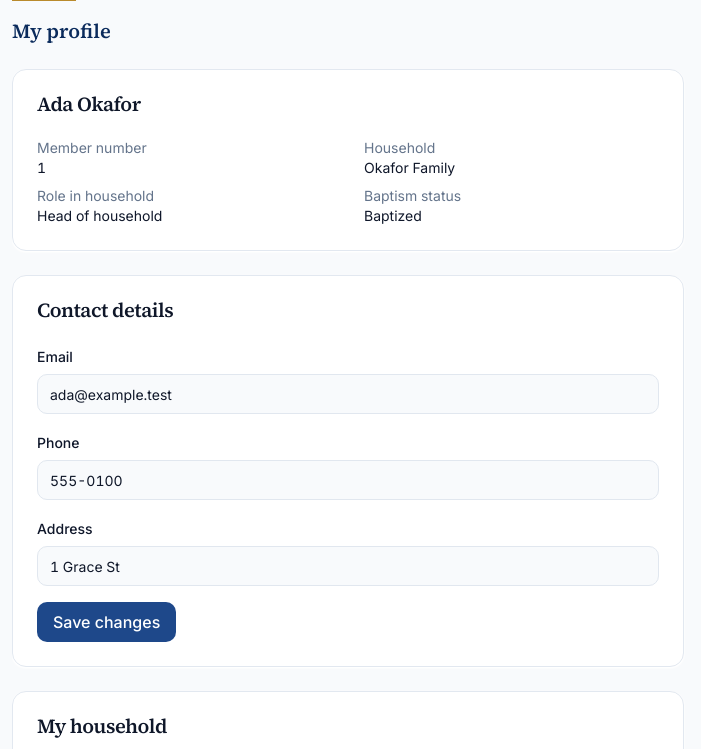
Test: MemberProfilePage (story 3.2) › saves edited contact info via the data layer
Expected: the text "Okafor Family" is shown, top-left (364, 159), bottom-right (455, 176)
Replace the text in the field labelled "Phone" with "555-0999" at coordinates (348, 480), box top-left (37, 460), bottom-right (659, 500)
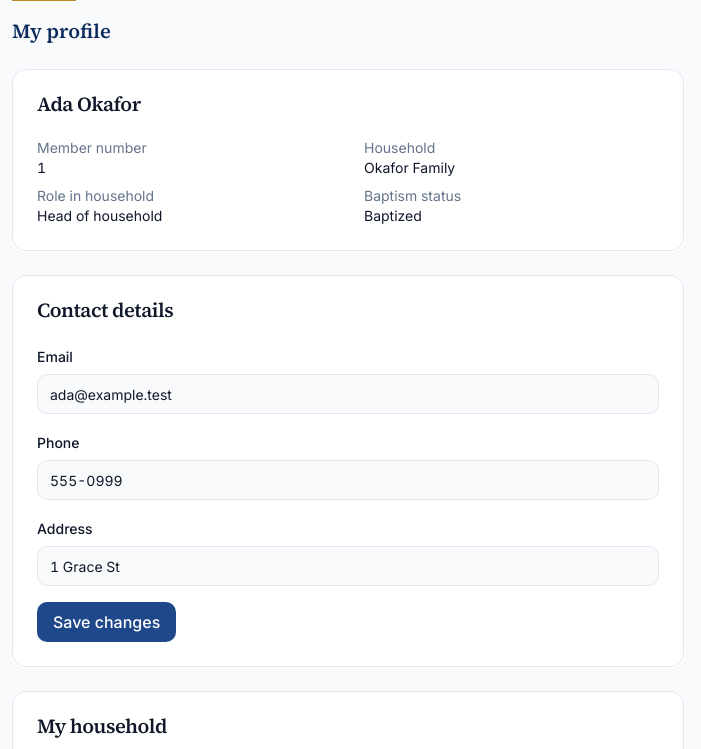
Click the button "Save changes" at coordinates (107, 622), box top-left (37, 602), bottom-right (176, 642)
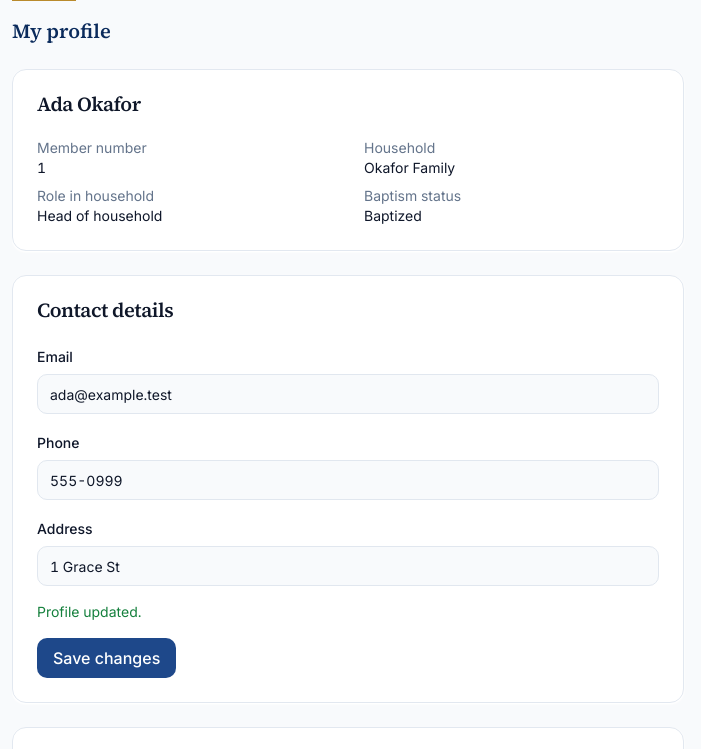
Expected: the text "Profile updated." is shown, top-left (37, 603), bottom-right (142, 620)
